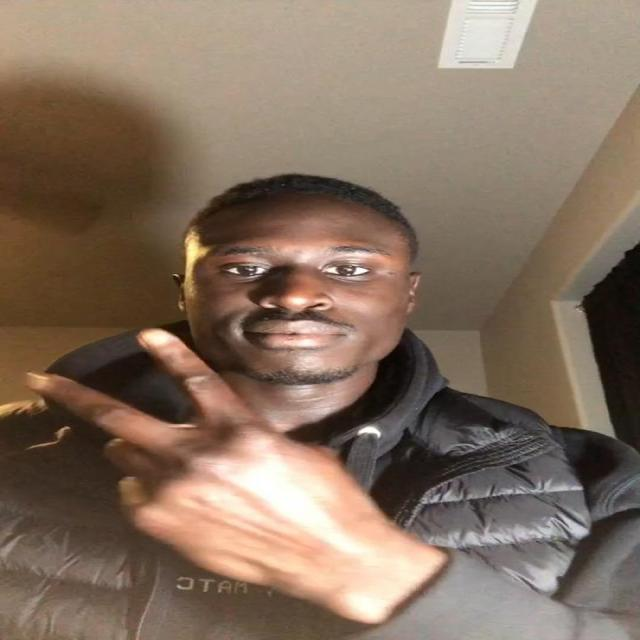face: (184, 211, 414, 384)
